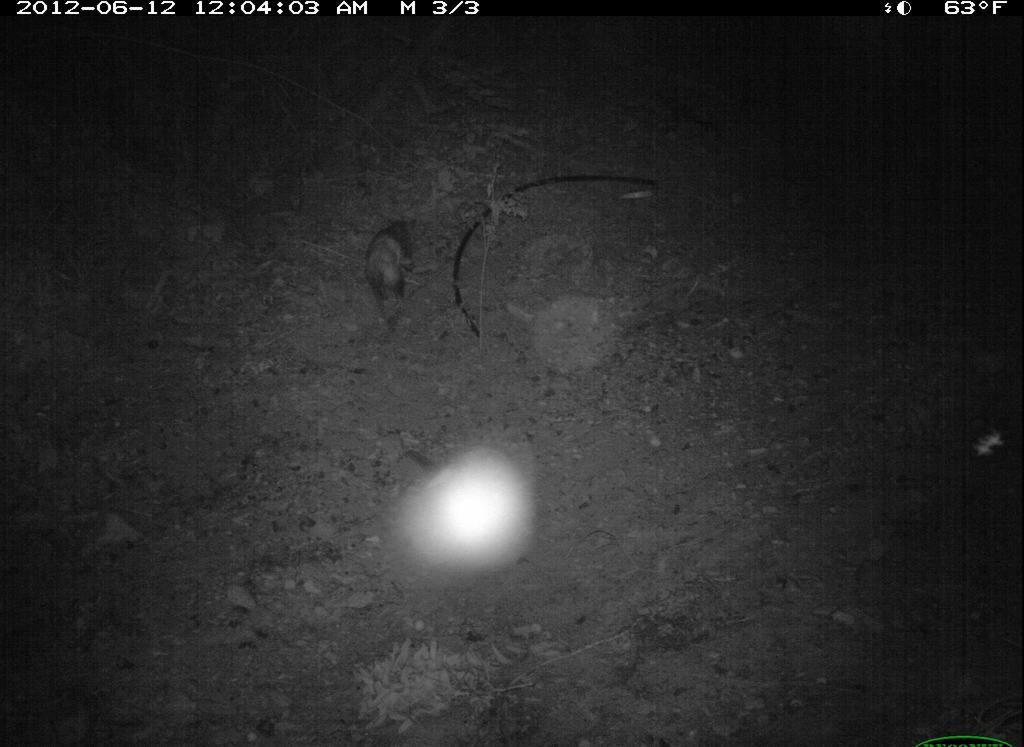opossum: (356, 210, 427, 336)
